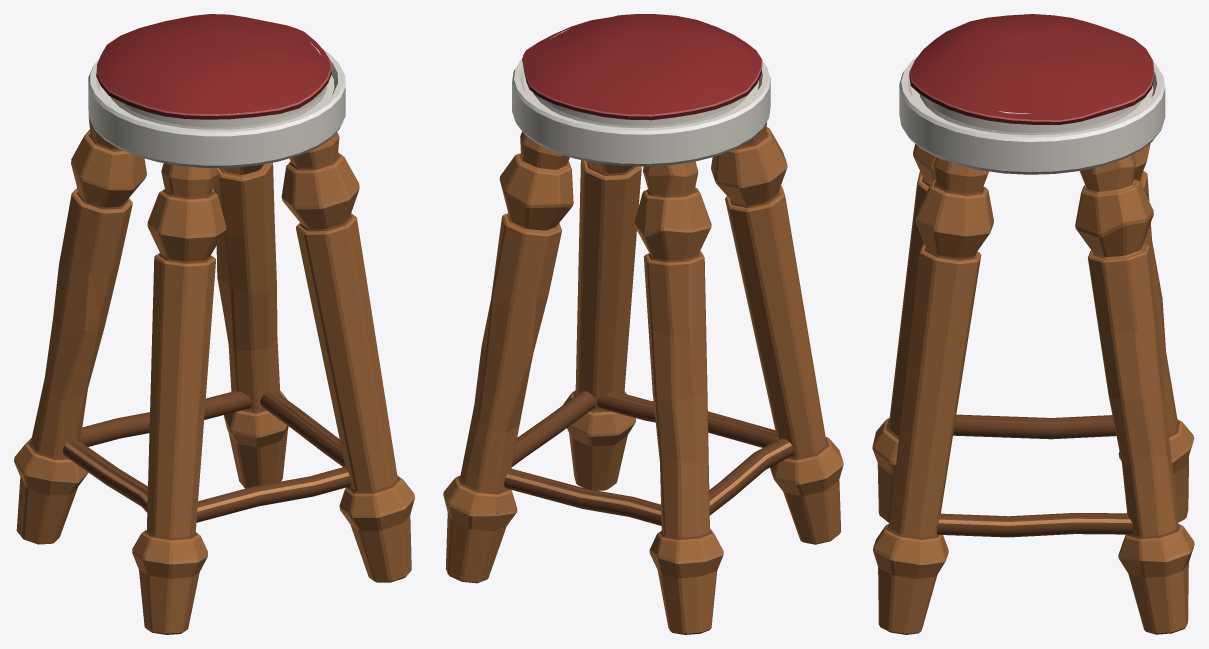
The model's file is UD_TIR_Barstool.fbx.
3 views of the same model, side by side, from view 1: azimuth 30°, elevation 25°; view 2: azimuth 150°, elevation 25°; view 3: azimuth 270°, elevation 25° (orthographic). The views are drawn at different scales.
Visible parts, largest first — view 1: Barstool; view 2: Barstool; view 3: Barstool.
Boxes of the visible parts, bbox=[...] form: Barstool: bbox=[14, 14, 414, 634]; Barstool: bbox=[443, 14, 843, 634]; Barstool: bbox=[872, 14, 1194, 634].
Bounding box in the file's own units: 42.15 × 76.4 × 42.11.
